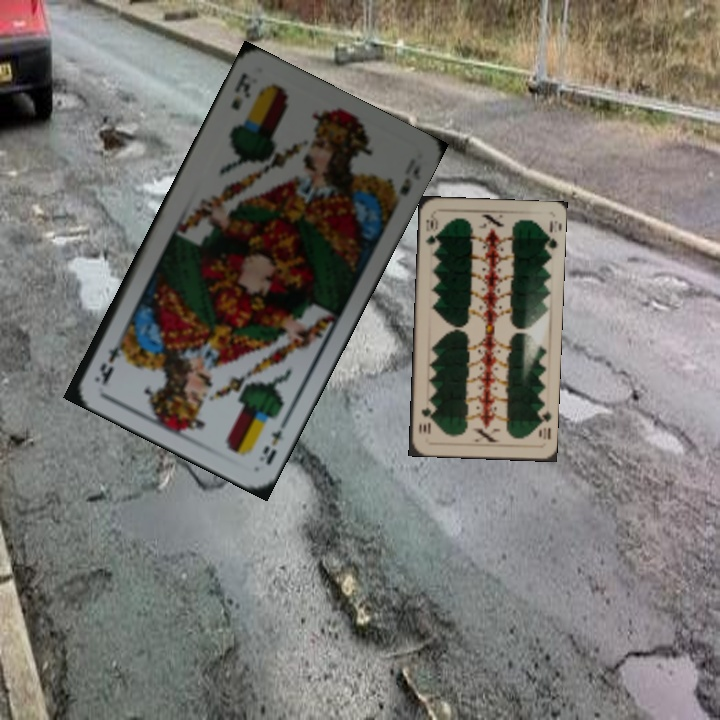EK: (255, 414, 291, 469), (227, 69, 254, 113)
G10: (534, 404, 554, 442), (422, 211, 441, 247)
